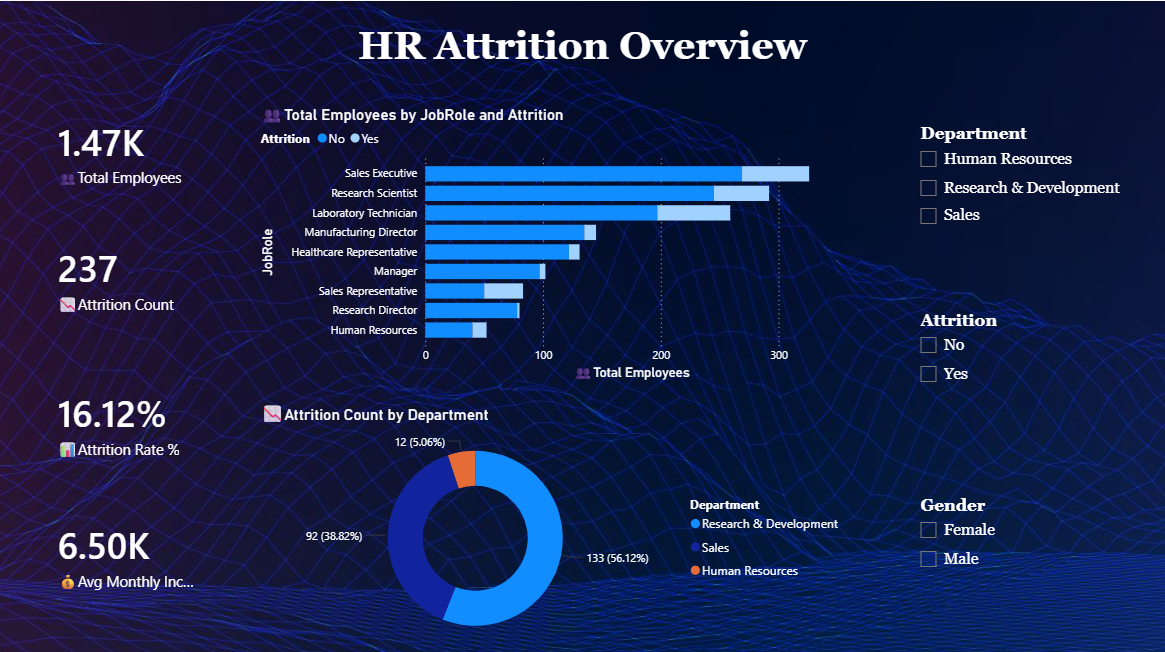

The dashboard page shown, as its layout file describes it:
{"tool":"powerbi","page":{"name":"Attrition Overview","canvas":[1280,720],"ordinal":0},"visuals":[{"type":"cardVisual","fields":{"Data":["Table.Attrition Count"]},"box":[34.3,248.4,215.4,111.1],"z":0},{"type":"cardVisual","fields":{"Data":["Table.Attrition Rate %"]},"box":[34.3,407.5,247,111.1],"z":1000},{"type":"cardVisual","fields":{"Data":["Table.Avg Monthly Income"]},"box":[34.3,553,215.4,111.1],"z":2000},{"type":"donutChart","fields":{"Category":["HR Data.Department"],"Y":["Table.Attrition Count"]},"box":[281.3,440.5,653.2,279.9],"z":3000},{"type":"barChart","fields":{"Category":["HR Data.JobRole"],"Y":["Table.Total Employees"],"Series":["HR Data.Attrition"]},"box":[281.3,111.1,653.2,310.1],"z":4000},{"type":"slicer","fields":{"Values":["HR Data.Department"]},"box":[997.6,130.4,237.4,152.3],"z":5000},{"type":"slicer","fields":{"Values":["HR Data.Gender"]},"box":[997.6,537.9,237.4,142.7],"z":6000},{"type":"slicer","fields":{"Values":["HR Data.Attrition"]},"box":[997.6,334.8,237.4,144.1],"z":7000},{"type":"textbox","box":[247,19.2,784.9,91.9],"z":8000},{"type":"cardVisual","fields":{"Data":["Table.Total Employees"]},"box":[34.3,111.1,215.4,109.8],"z":9000}]}

Visuals, with their boxes in screenshot pixels (x1, y1, x2, y2), scaled from the page's 1280x720 canvas onto the 1165x652 screenshot:
cardVisual - Table.Attrition Count: <region>31, 225, 227, 326</region>
cardVisual - Table.Attrition Rate %: <region>31, 369, 256, 470</region>
cardVisual - Table.Avg Monthly Income: <region>31, 501, 227, 601</region>
donutChart - HR Data.Department x Table.Attrition Count: <region>256, 399, 851, 651</region>
barChart - HR Data.JobRole x Table.Total Employees: <region>256, 101, 851, 381</region>
slicer - HR Data.Department: <region>908, 118, 1124, 256</region>
slicer - HR Data.Gender: <region>908, 487, 1124, 616</region>
slicer - HR Data.Attrition: <region>908, 303, 1124, 434</region>
textbox: <region>225, 17, 939, 101</region>
cardVisual - Table.Total Employees: <region>31, 101, 227, 200</region>
